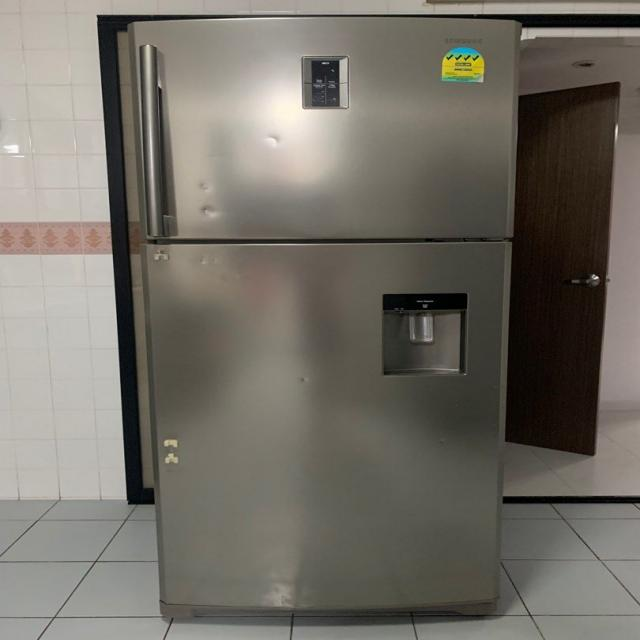refrigerator: (127, 16, 523, 620)
